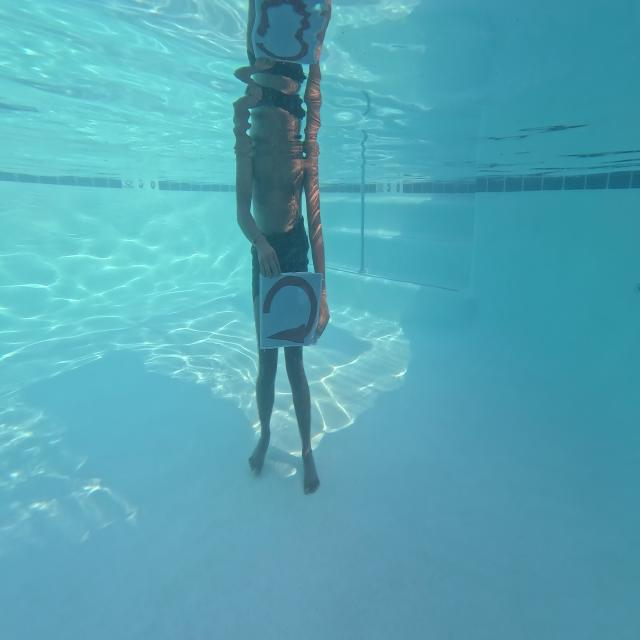red_side: (260, 267, 318, 349)
